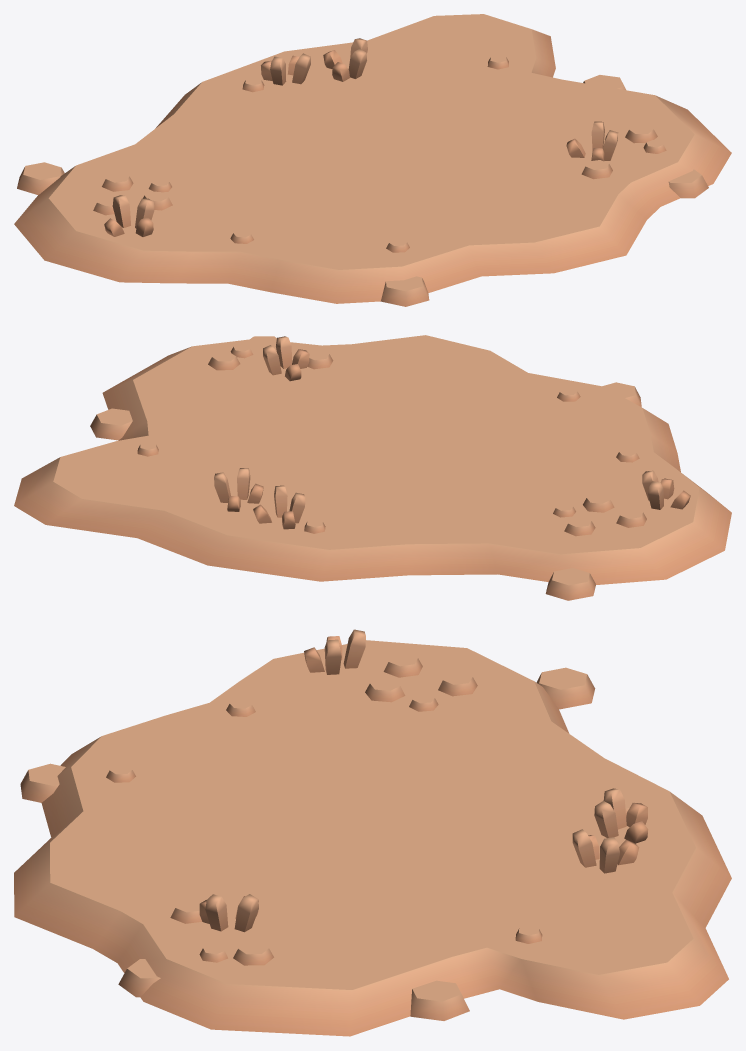
Rendered from patch-sand-foliage.glb.
The picture shows the model from 3 angles, top to bottom: view 1: azimuth 30°, elevation 25°; view 2: azimuth 150°, elevation 25°; view 3: azimuth 270°, elevation 25°; orthographic projection. The views are drawn at different scales.
Parts seen in each view (by area): view 1: patch-sand-foliage; view 2: patch-sand-foliage; view 3: patch-sand-foliage.
Boxes of the visible parts, bbox=[...] form: patch-sand-foliage: bbox=[14, 14, 731, 306]; patch-sand-foliage: bbox=[14, 335, 731, 600]; patch-sand-foliage: bbox=[14, 629, 731, 1036].
Bounding box in the file's own units: 7.74 × 0.5638 × 6.04.
Materials: 1 (1 with a texture image).
